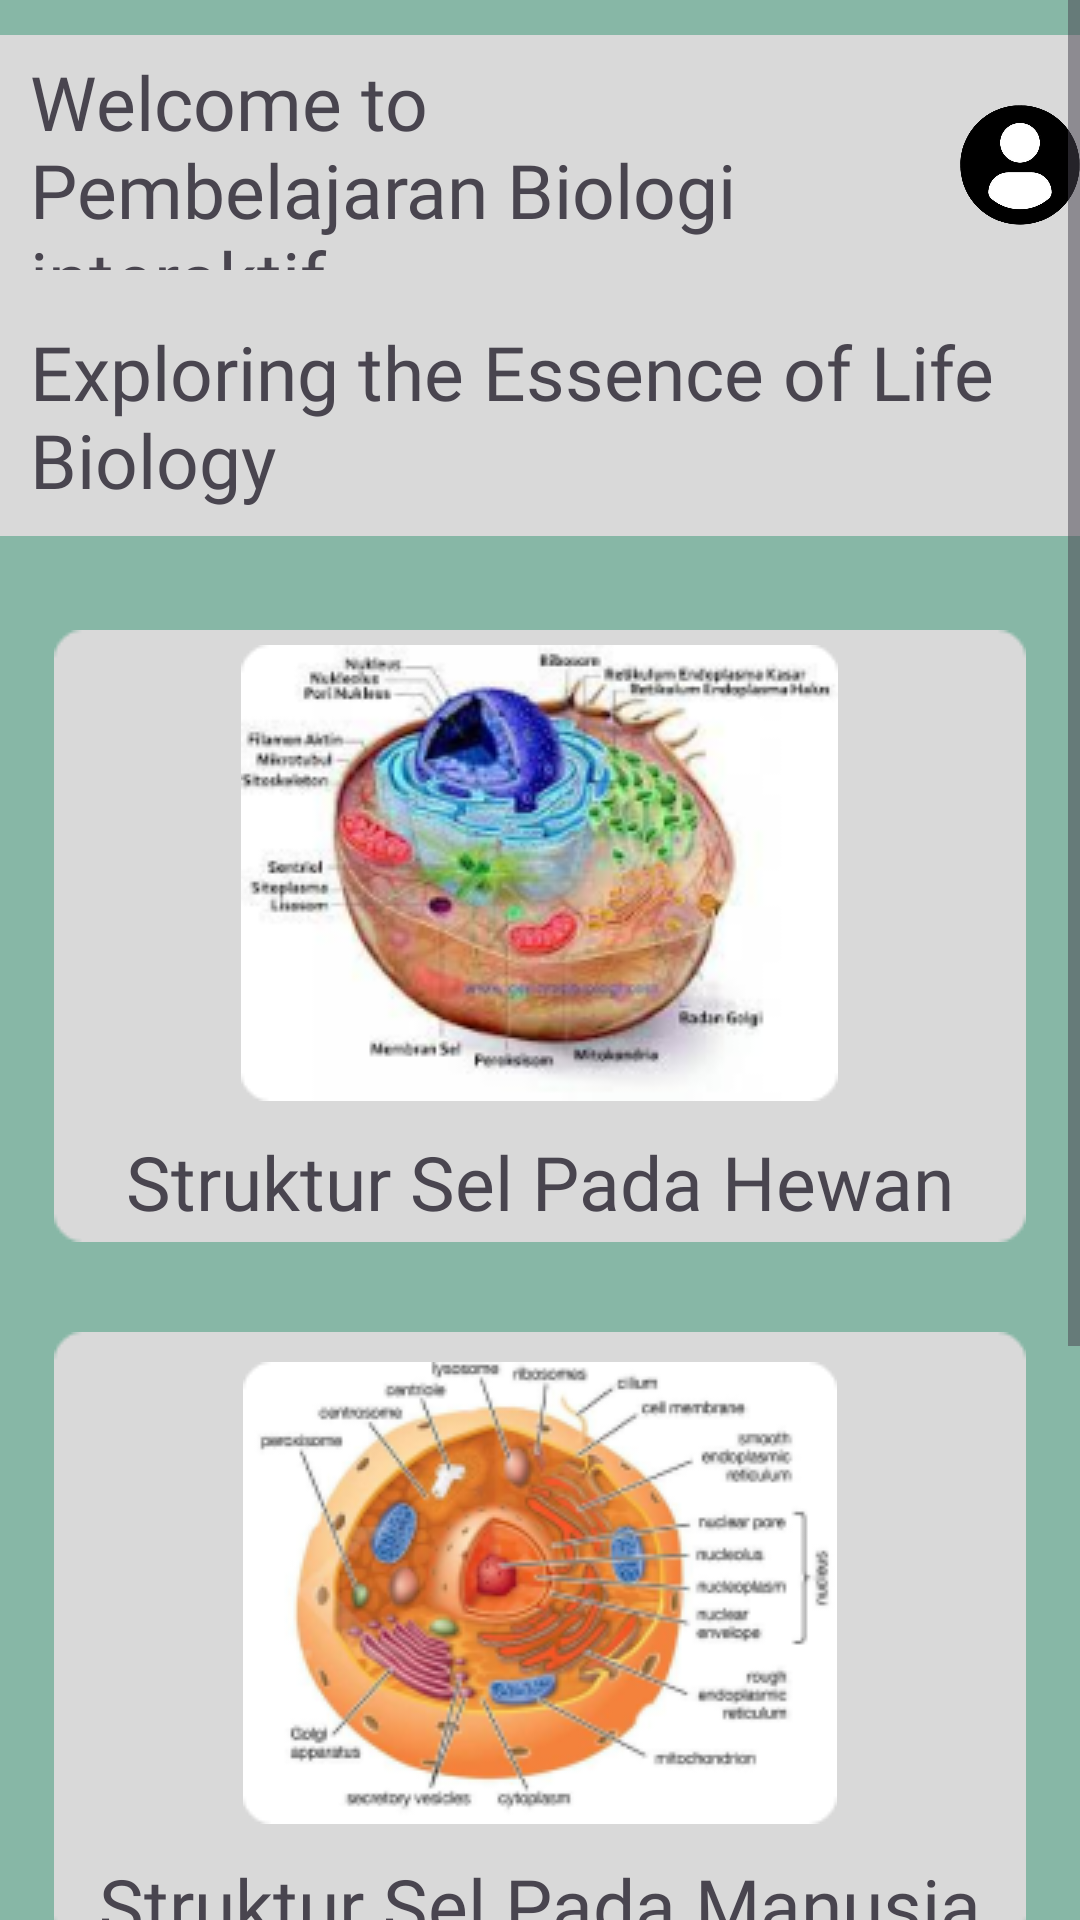

Screen size 1080*1920. Icon name, then its box in pixels as Rect(x1, y1, x2, y2):
homeprofile: Rect(960, 60, 1080, 270)
